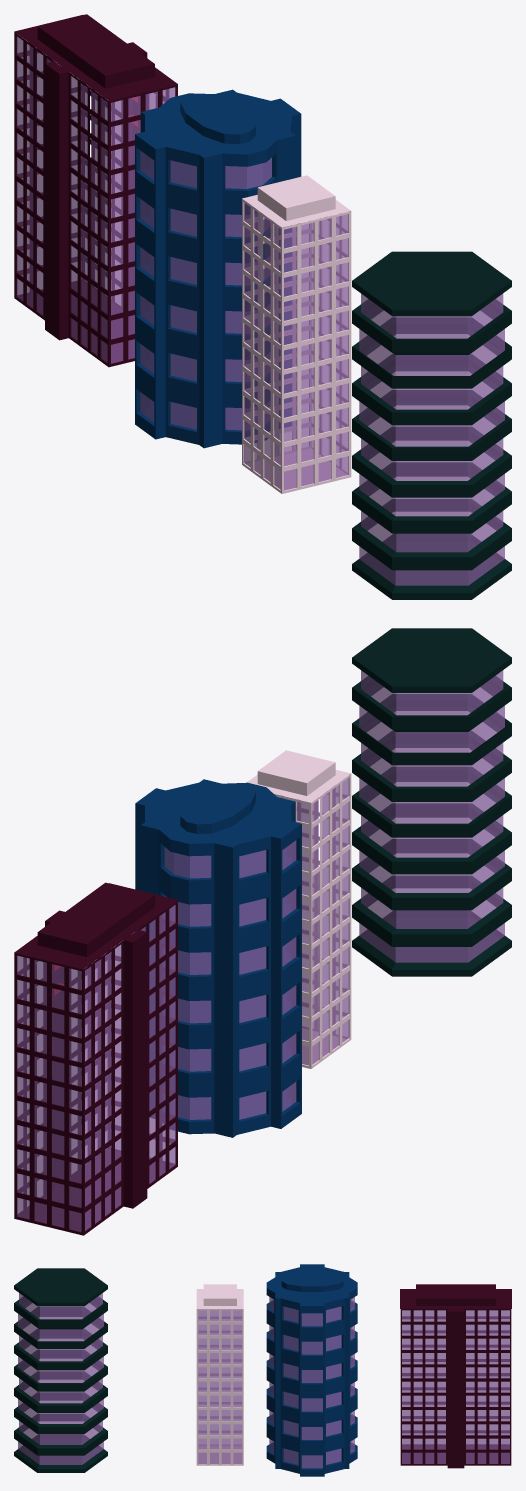
Rendered from proto-buildings.glb.
The picture shows the model from 3 angles, top to bottom: view 1: azimuth 30°, elevation 25°; view 2: azimuth 150°, elevation 25°; view 3: azimuth 270°, elevation 25°; orthographic projection. The views are drawn at different scales.
Visible parts, largest first — view 1: ProtoBuilding2, ProtoBuilding3, ProtoBuilding4, ProtoBuilding1; view 2: ProtoBuilding2, ProtoBuilding4, ProtoBuilding3, ProtoBuilding1; view 3: ProtoBuilding4, ProtoBuilding3, ProtoBuilding2, ProtoBuilding1.
Boxes of the visible parts, x1=… form: ProtoBuilding2: x1=352, y1=251, x2=511, y2=599; ProtoBuilding3: x1=135, y1=89, x2=301, y2=448; ProtoBuilding4: x1=14, y1=14, x2=177, y2=367; ProtoBuilding1: x1=242, y1=175, x2=351, y2=493; ProtoBuilding2: x1=352, y1=628, x2=511, y2=976; ProtoBuilding4: x1=14, y1=882, x2=177, y2=1235; ProtoBuilding3: x1=135, y1=779, x2=301, y2=1137; ProtoBuilding1: x1=247, y1=750, x2=351, y2=1068; ProtoBuilding4: x1=400, y1=1284, x2=511, y2=1468; ProtoBuilding3: x1=266, y1=1264, x2=357, y2=1476; ProtoBuilding2: x1=14, y1=1268, x2=107, y2=1472; ProtoBuilding1: x1=196, y1=1284, x2=243, y2=1465.
Bounding box in the file's own units: 63.14 × 124 × 318.
2 materials, 1 textured.
